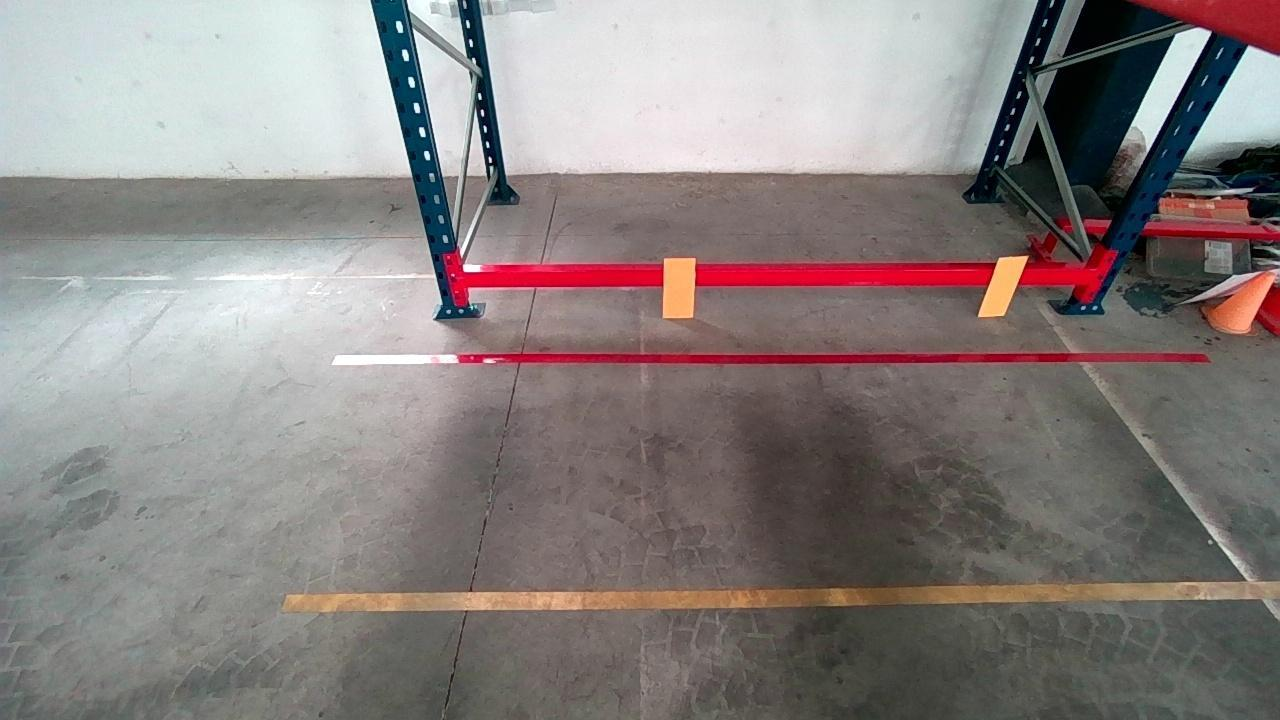h_rack: (465, 261, 1087, 297)
orange_strip: (978, 256, 1029, 317), (663, 256, 695, 316)
red_line: (329, 347, 1210, 367)
yellow_line: (295, 575, 1277, 611)
